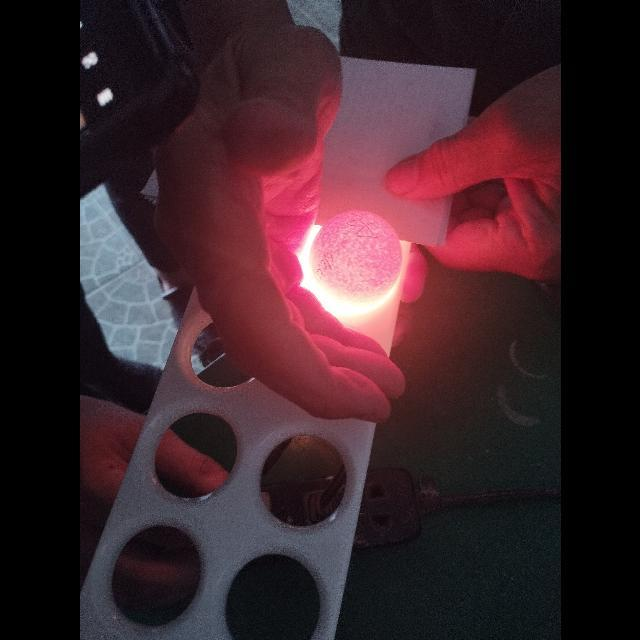Infertile: (316, 213, 400, 297)
